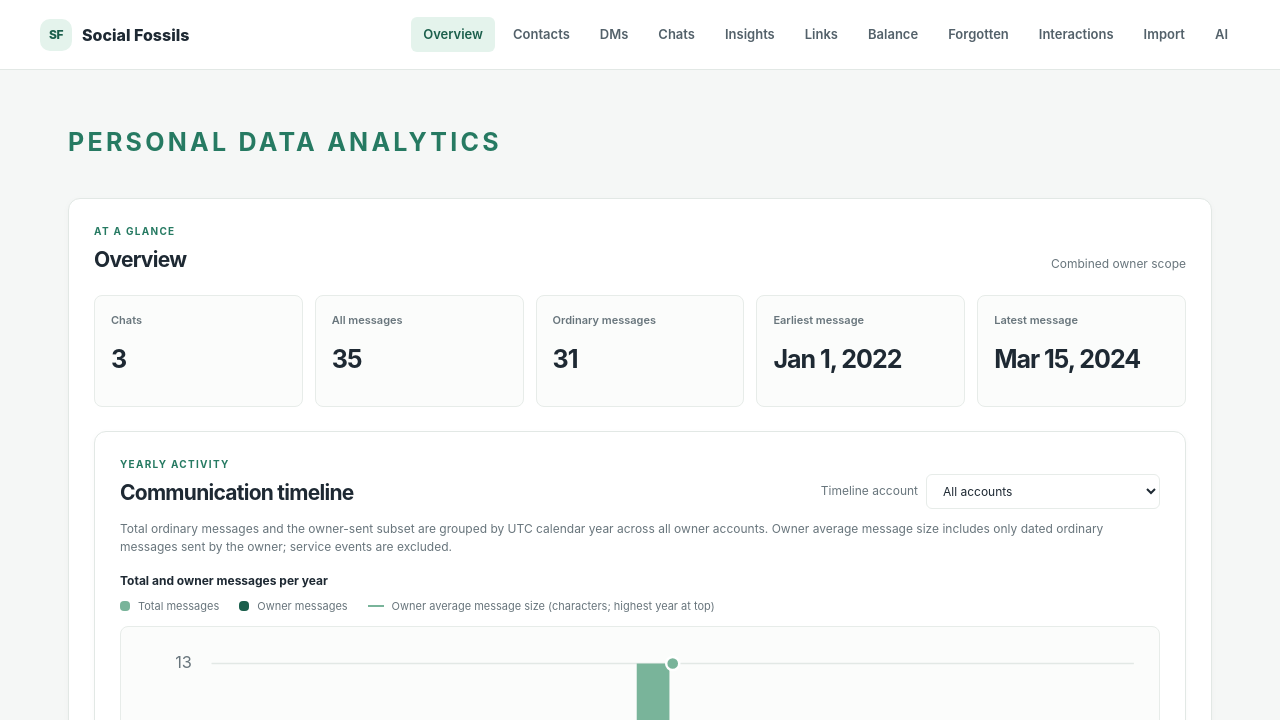
requests DM and group-chat lists separately
Expected: the heading "All messages" is shown, [332, 313, 403, 327]
Click the tab "DMs".
click(614, 35)  # box [588, 17, 640, 52]
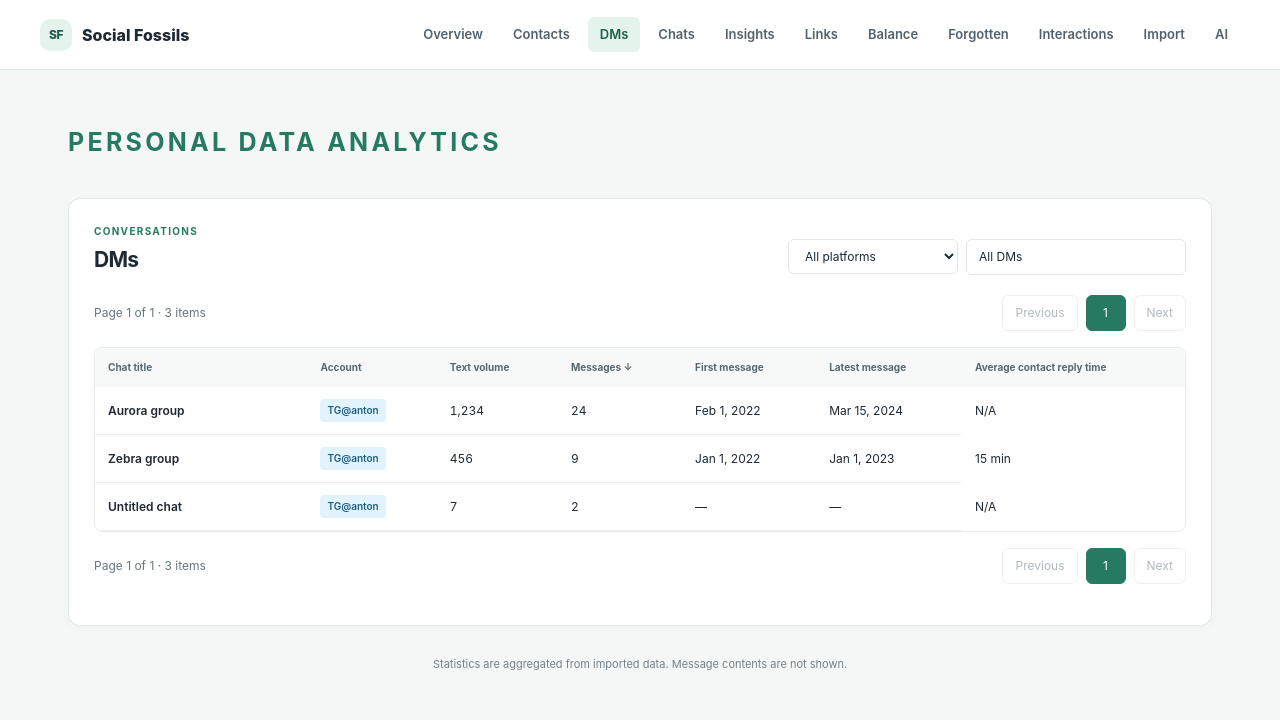
Expected: the panel "DMs" is shown, [68, 198, 1212, 626]
Expected: the row "Zebra group TG@anton 456 9 Jan 1, 2022 Jan 1, 2023 15 min" is shown, [95, 434, 1185, 482]
Expected: the row "Aurora group TG@anton 1,234 24 Feb 1, 2022 Mar 15, 2024 N/A" is shown, [95, 387, 1185, 434]
Click the tab "Chats".
click(677, 35)  # box [646, 17, 707, 52]
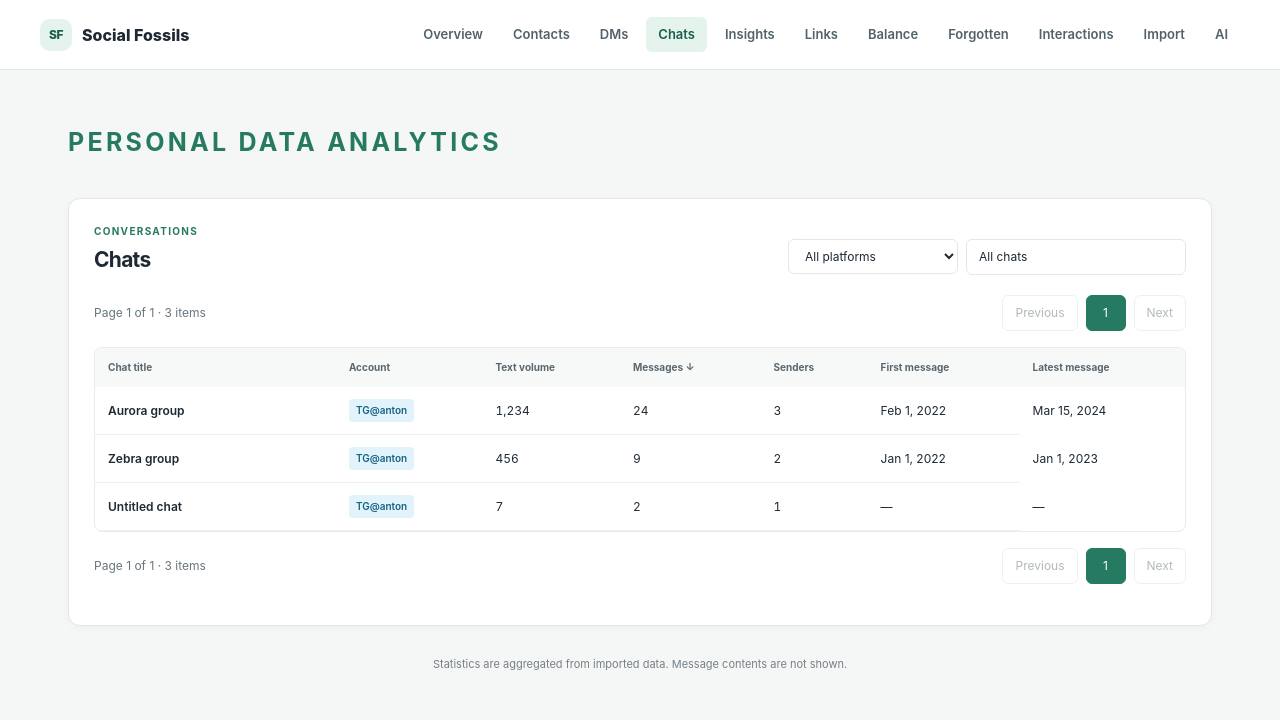
Expected: the panel "Chats" is shown, [68, 198, 1212, 626]
